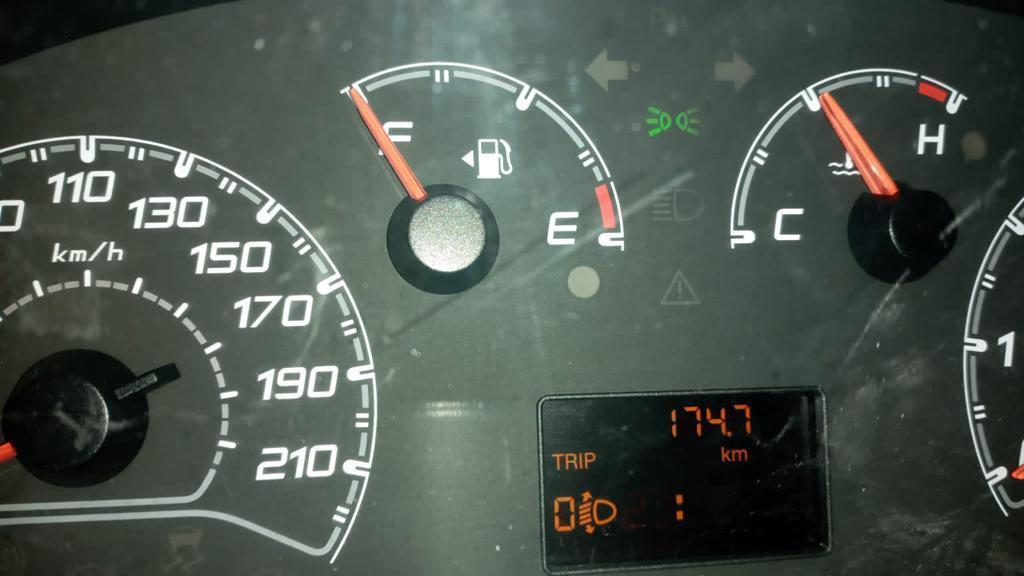,: (726, 430, 732, 437)
0: (551, 493, 576, 534)
1: (668, 406, 678, 440)
4: (704, 404, 726, 438)
7: (682, 404, 703, 438), (733, 402, 754, 435)
X: (671, 489, 687, 527), (564, 451, 578, 473), (550, 451, 564, 472), (731, 448, 750, 463), (584, 450, 597, 470), (720, 445, 731, 463), (578, 449, 583, 472)
odometer: (532, 387, 846, 570)
